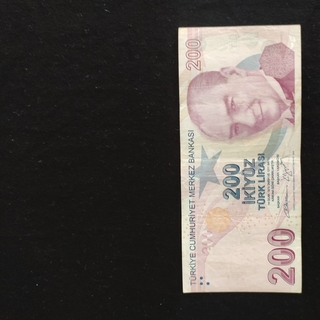200TLFront: (177, 24, 302, 293)
